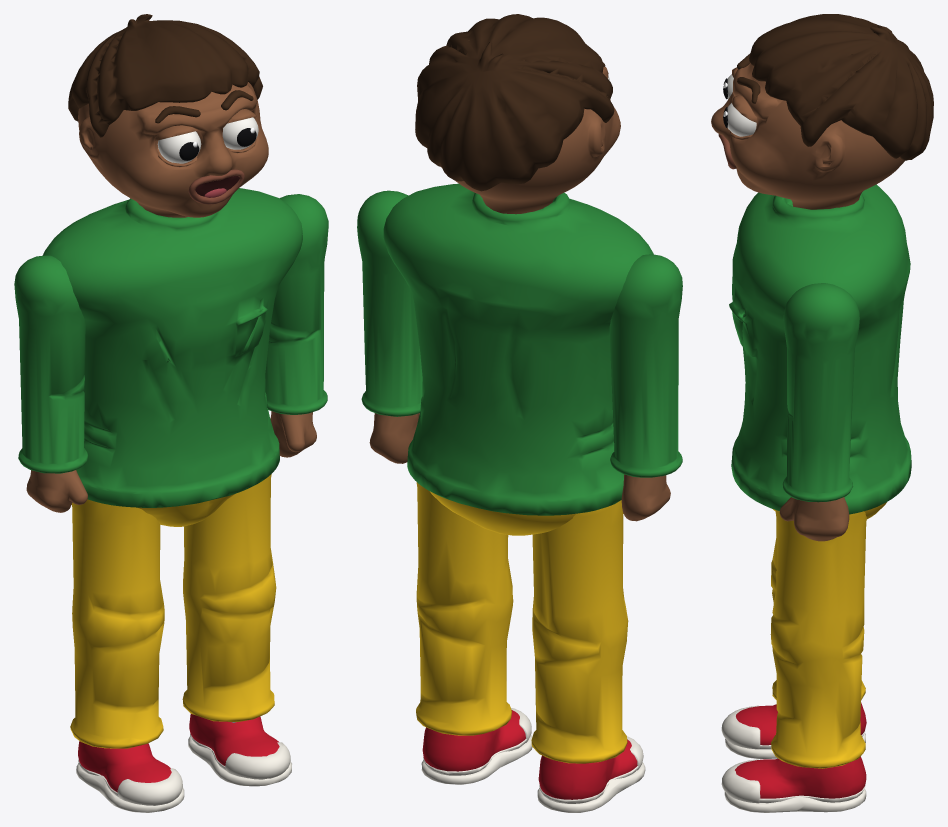
File: timmy.glb
The picture shows the model from 3 angles, left to right: view 1: azimuth 30°, elevation 25°; view 2: azimuth 150°, elevation 25°; view 3: azimuth 270°, elevation 25°; orthographic projection. The views are drawn at different scales.
Visible parts, largest first — view 1: Body_Mesh, Head_Mesh, LegR_Mesh, LegL_Mesh, ArmR_Mesh, ArmL_Mesh, Mouth; view 2: Body_Mesh, Head_Mesh, LegR_Mesh, LegL_Mesh, ArmR_Mesh, ArmL_Mesh; view 3: Body_Mesh, Head_Mesh, LegL_Mesh, ArmL_Mesh, LegR_Mesh.
Part boxes in pixels (left/top/right/bottom): Body_Mesh: left=43, top=188, right=302, bottom=526; Head_Mesh: left=68, top=14, right=268, bottom=217; LegR_Mesh: left=70, top=499, right=184, bottom=812; LegL_Mesh: left=182, top=474, right=291, bottom=786; ArmR_Mesh: left=14, top=255, right=88, bottom=512; ArmL_Mesh: left=265, top=194, right=328, bottom=457; Mouth: left=188, top=169, right=244, bottom=204; Body_Mesh: left=383, top=183, right=653, bottom=535; Head_Mesh: left=415, top=14, right=620, bottom=214; LegR_Mesh: left=531, top=500, right=645, bottom=812; LegL_Mesh: left=416, top=482, right=532, bottom=784; ArmR_Mesh: left=609, top=254, right=682, bottom=521; ArmL_Mesh: left=357, top=190, right=422, bottom=463; Body_Mesh: left=729, top=184, right=911, bottom=519; Head_Mesh: left=711, top=14, right=933, bottom=209; LegL_Mesh: left=721, top=510, right=866, bottom=812; ArmL_Mesh: left=779, top=283, right=859, bottom=541; LegR_Mesh: left=721, top=519, right=866, bottom=758.
Bounding box in the file's own units: 0.4227 × 0.9695 × 0.2623.
